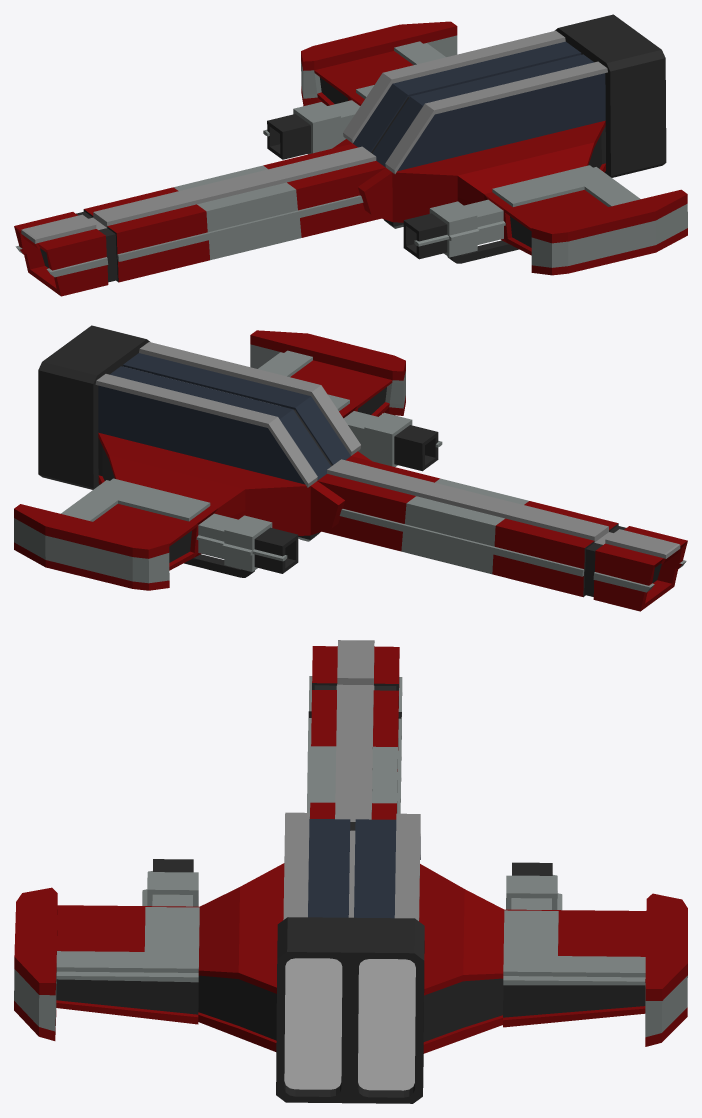
Rendered from SpaceShip.fbx.
3 views of the same model, one above another, from view 1: azimuth 30°, elevation 25°; view 2: azimuth 150°, elevation 25°; view 3: azimuth 270°, elevation 25° (orthographic). The views are drawn at different scales.
Visible parts, largest first — view 1: Cube; view 2: Cube; view 3: Cube.
Part boxes in pixels (bbox=[...]): Cube: bbox=[14, 14, 687, 296]; Cube: bbox=[14, 325, 687, 611]; Cube: bbox=[14, 640, 687, 1103].
Size of the model in its own units: 2337 by 459 by 1725.
